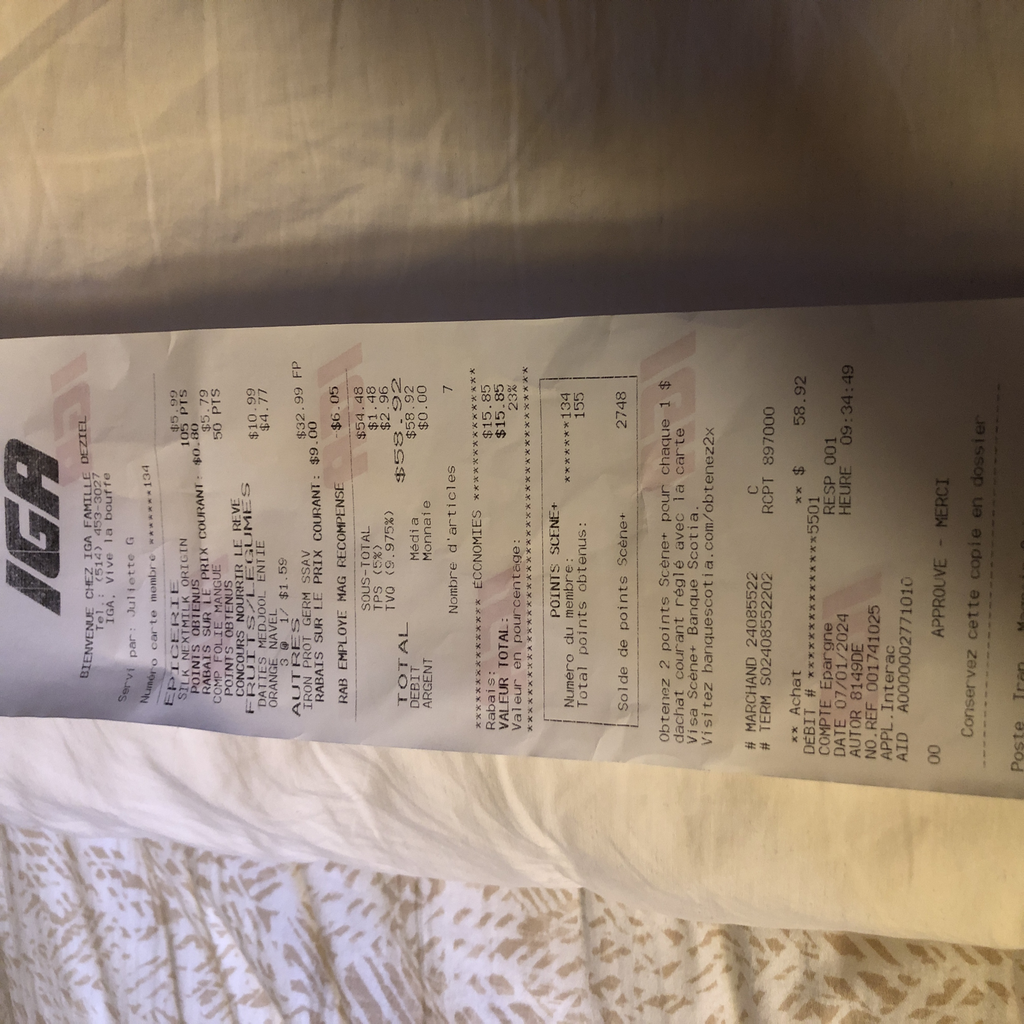recipt: (0, 298, 1024, 797)
